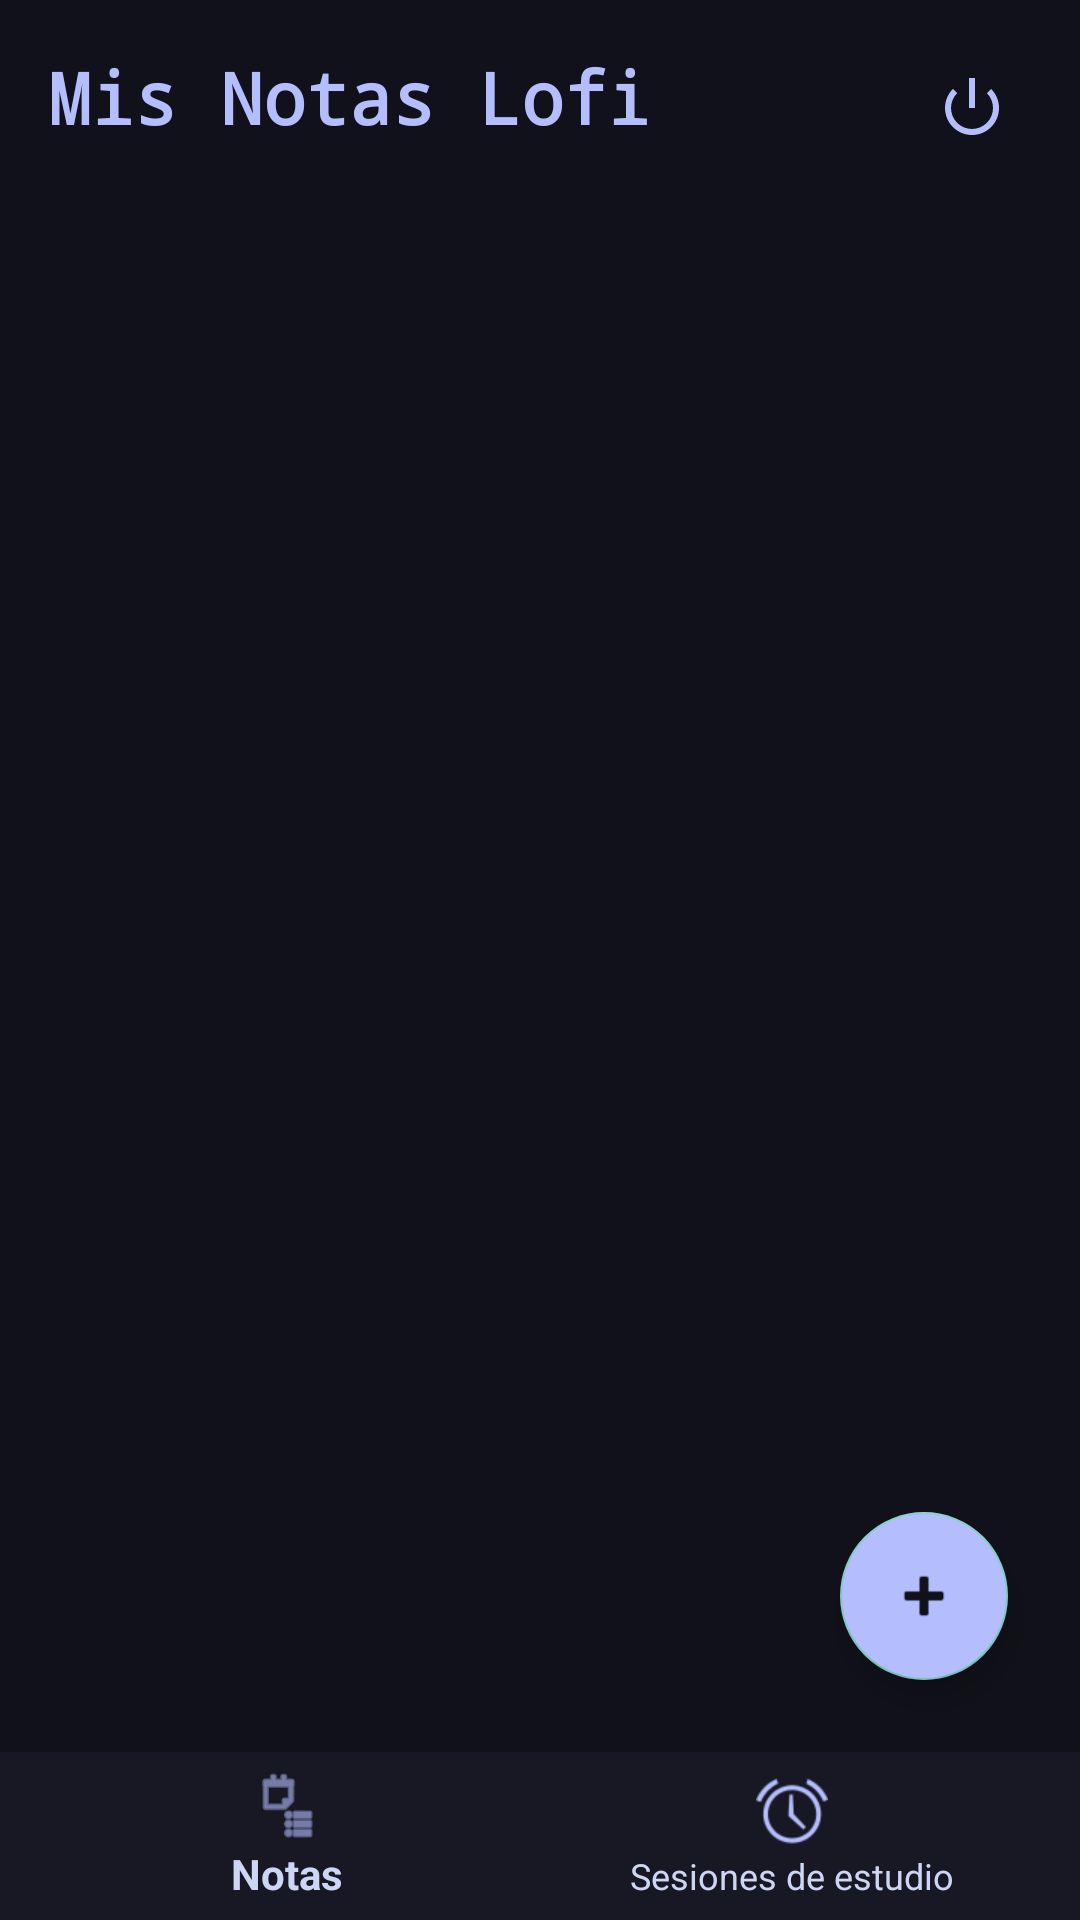

Icon bounding boxes for this 1080px×1920px phone screenshot, format (x1, y1, x2, y2):
Cerrar sesión: (945, 78, 999, 135)
Nueva Nota: (840, 1512, 1008, 1680)
